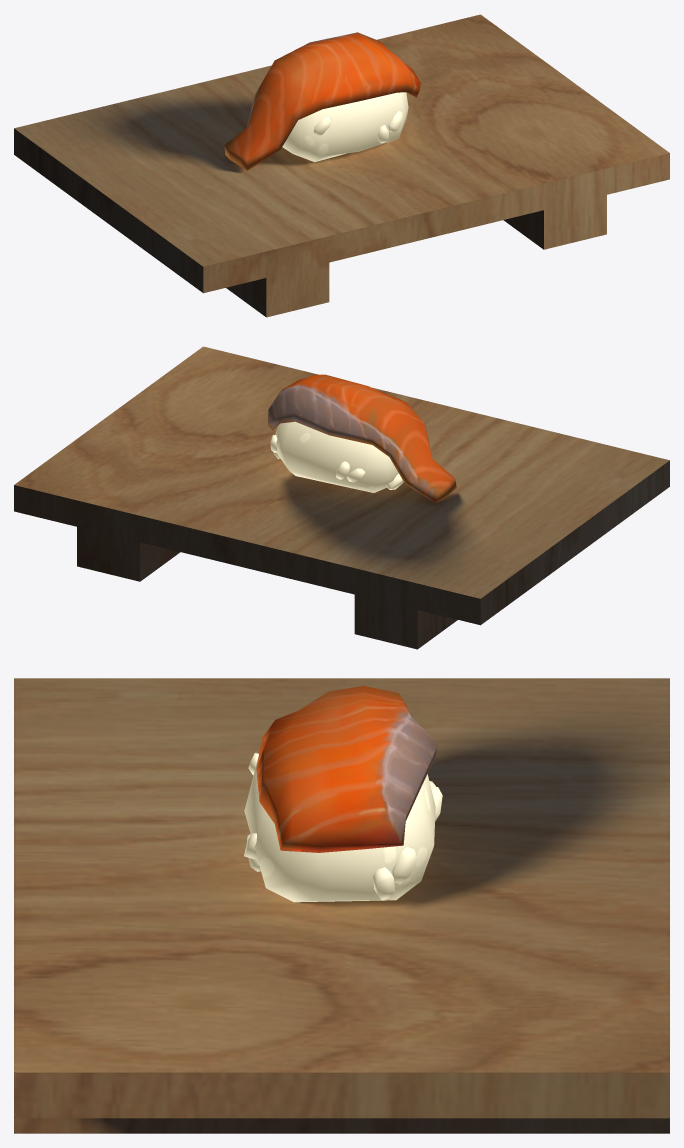
File: sushi_samon.glb
The picture shows the model from 3 angles, top to bottom: view 1: azimuth 30°, elevation 25°; view 2: azimuth 150°, elevation 25°; view 3: azimuth 270°, elevation 25°; orthographic projection. The views are drawn at different scales.
Parts seen in each view (by area): view 1: geta.vox, Cube.006, Cube.005; view 2: geta.vox, Cube.006, Cube.005; view 3: geta.vox, Cube.006, Cube.005.
Part boxes in pixels (x1,y1,x2,y2): geta.vox: (14,14,669,317); Cube.006: (224,32,420,170); Cube.005: (282,92,408,162); geta.vox: (14,346,669,649); Cube.006: (268,374,456,503); Cube.005: (270,421,403,492); geta.vox: (14,678,669,1133); Cube.006: (256,686,437,852); Cube.005: (244,752,442,902).
Size of the model in its own units: 3.7 by 1.2 by 2.6.
Materials: 3 (3 with a texture image).
